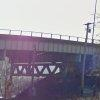Bridge: (4, 20, 99, 72)
